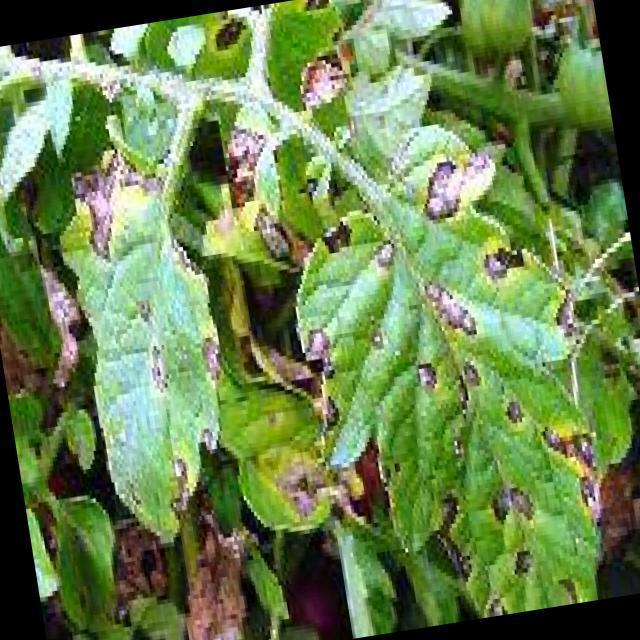Septoria: (278, 138, 621, 632), (116, 274, 241, 520)
